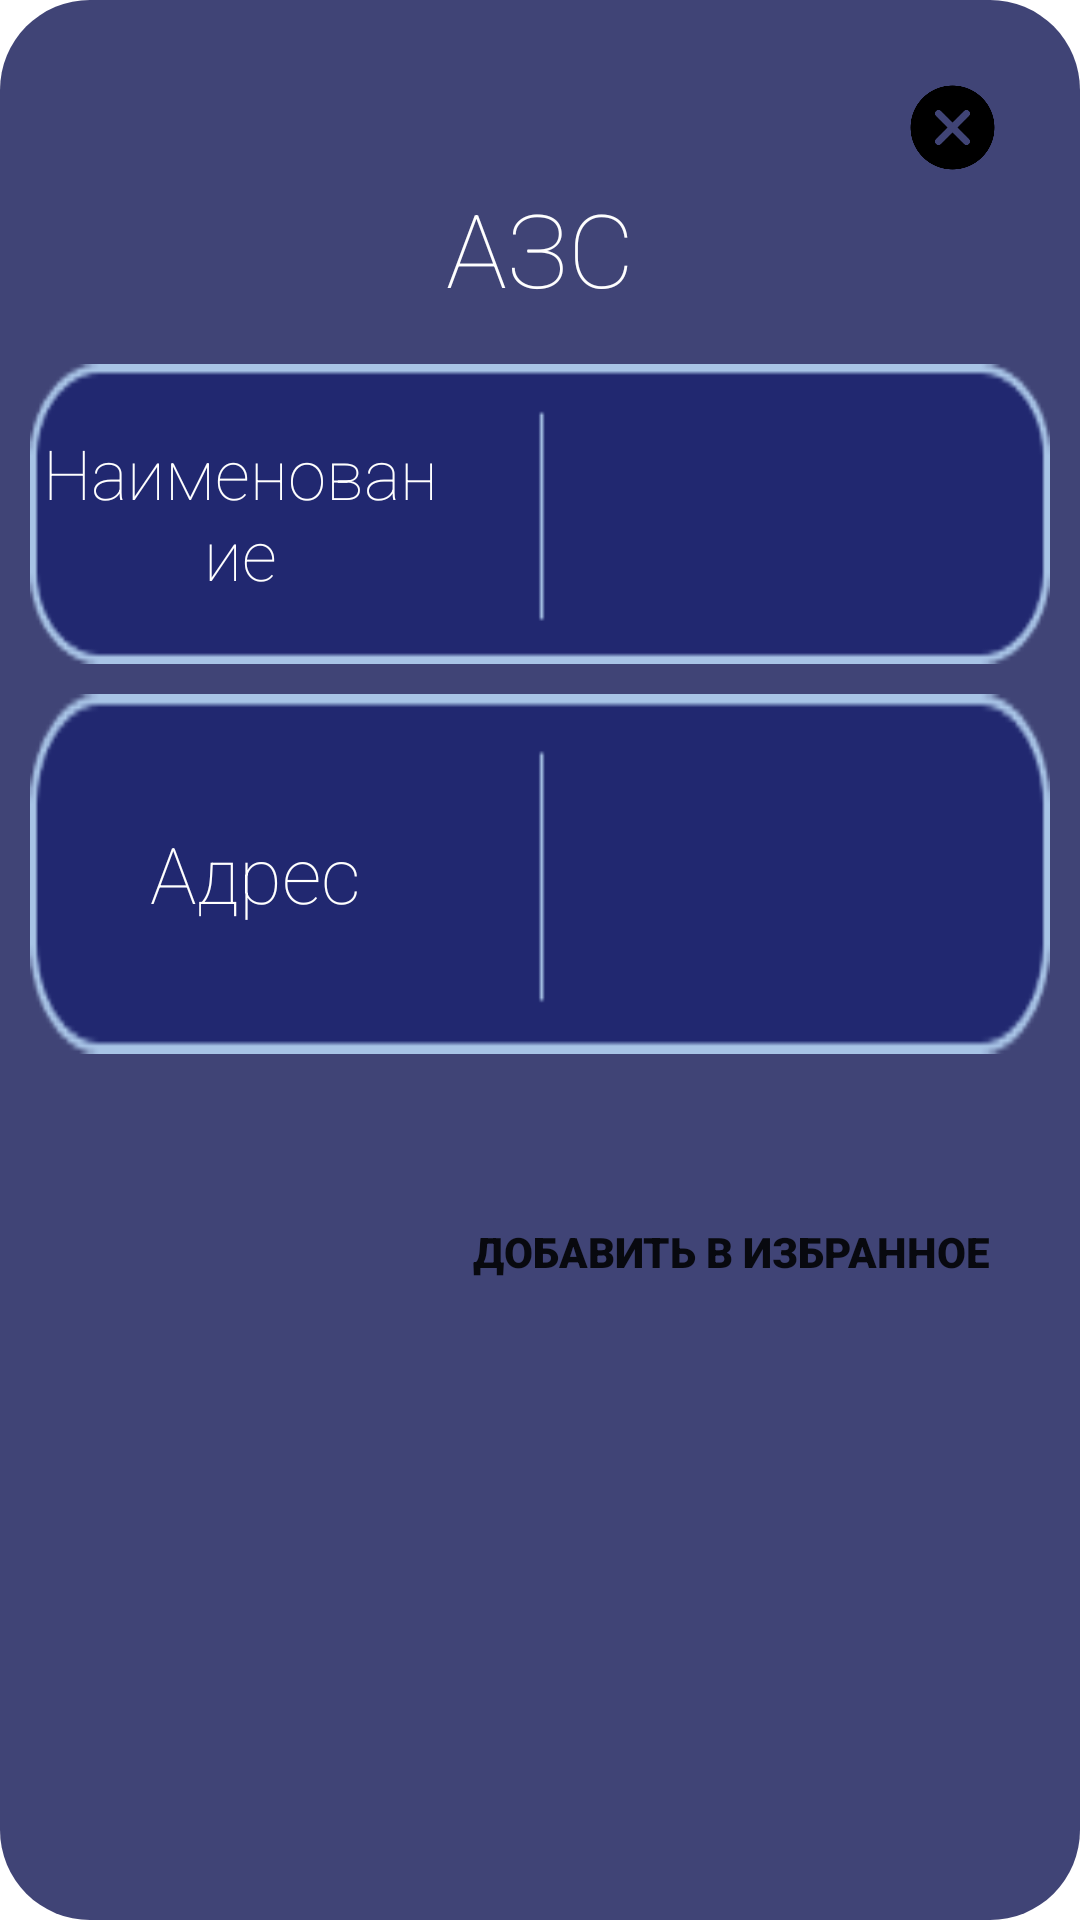

Point at icon controls on the screen. Image size 1080x1920, points as point (x, y).
close: point (952, 127)
